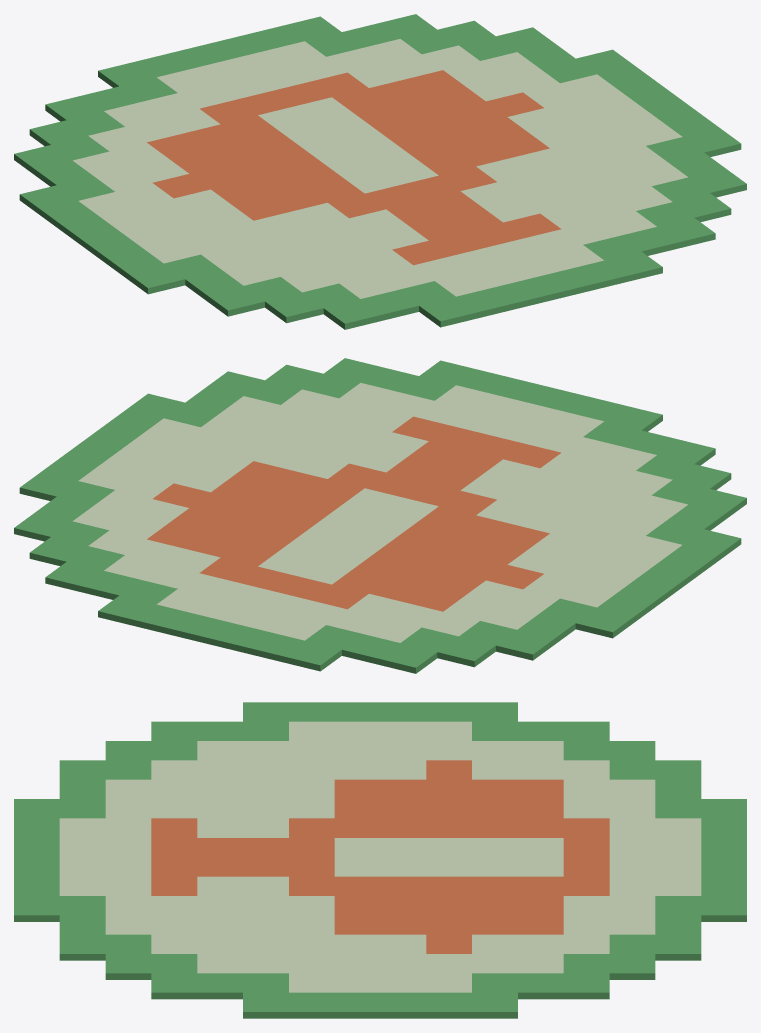
The model's file is ncb-rug-flower.glb.
The picture shows the model from 3 angles, top to bottom: view 1: azimuth 30°, elevation 25°; view 2: azimuth 150°, elevation 25°; view 3: azimuth 270°, elevation 25°; orthographic projection. The views are drawn at different scales.
Visible parts, largest first — view 1: box-prop; view 2: box-prop; view 3: box-prop.
Boxes of the visible parts, box(x1,y1,x2,y2) form: box-prop: box(14, 14, 746, 329); box-prop: box(14, 358, 746, 673); box-prop: box(14, 702, 746, 1018).
Size of the model in its own units: 3.04 by 0.03 by 3.04.
